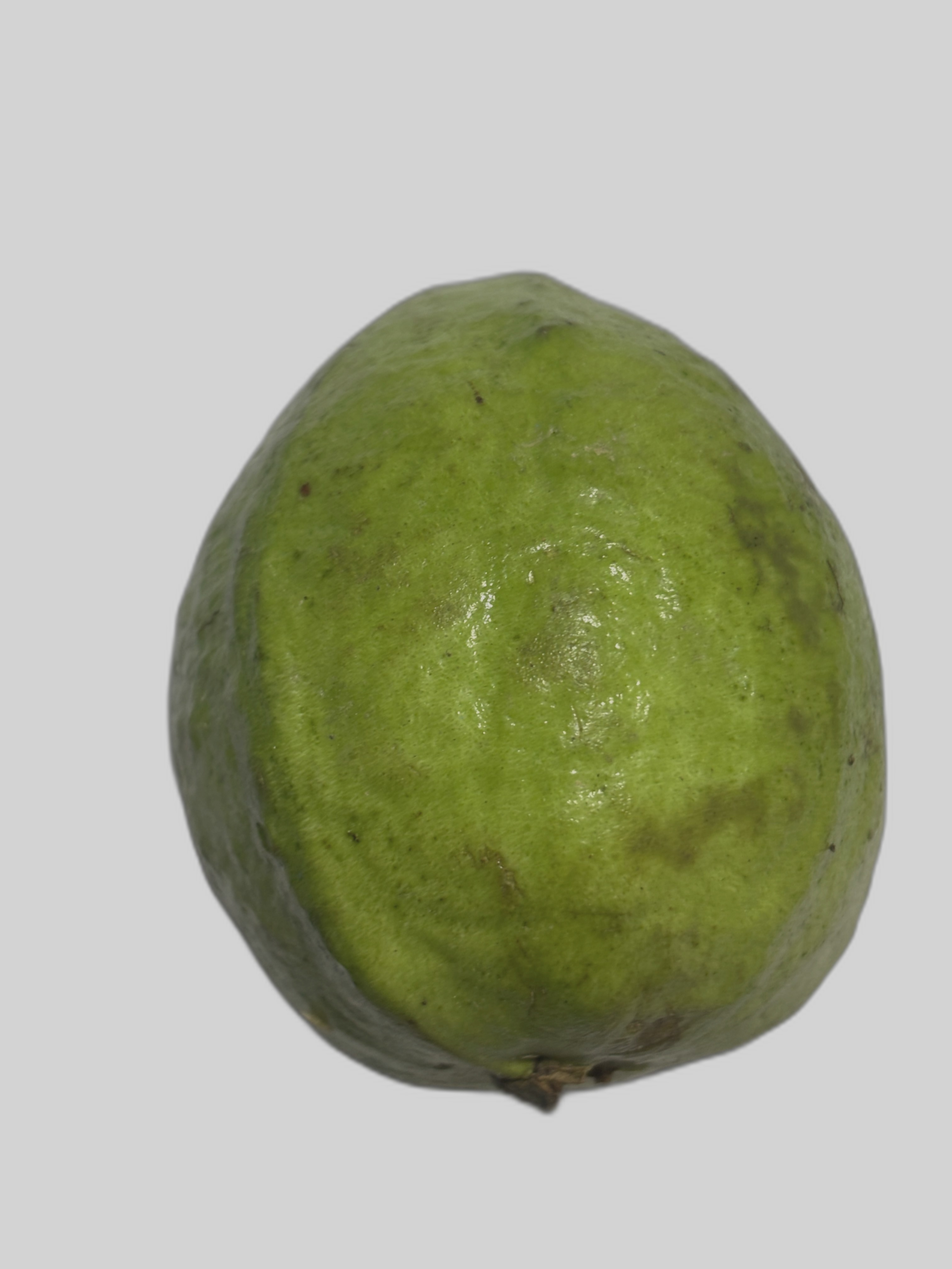guava: (152, 179, 862, 1233)
